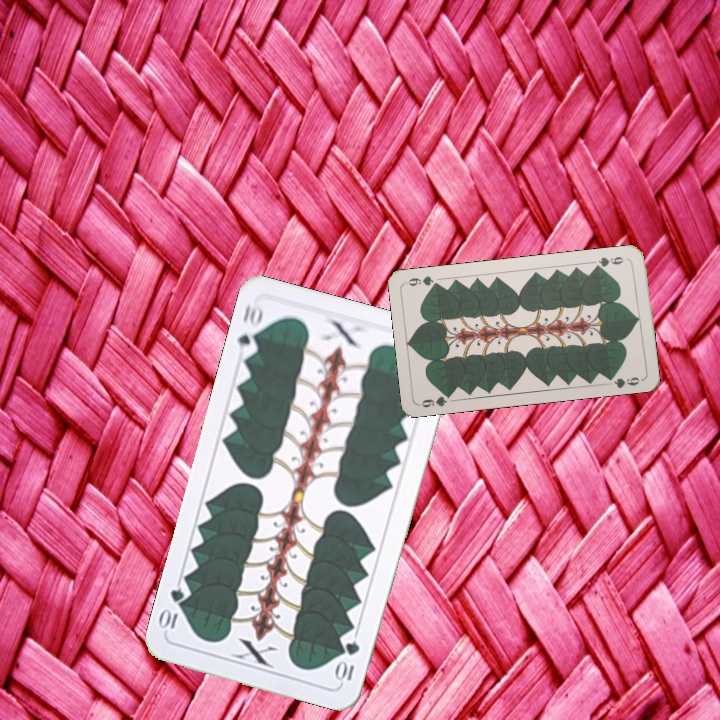G10: (233, 299, 266, 359), (333, 637, 363, 685)
G9: (416, 389, 455, 410), (591, 253, 631, 271)
